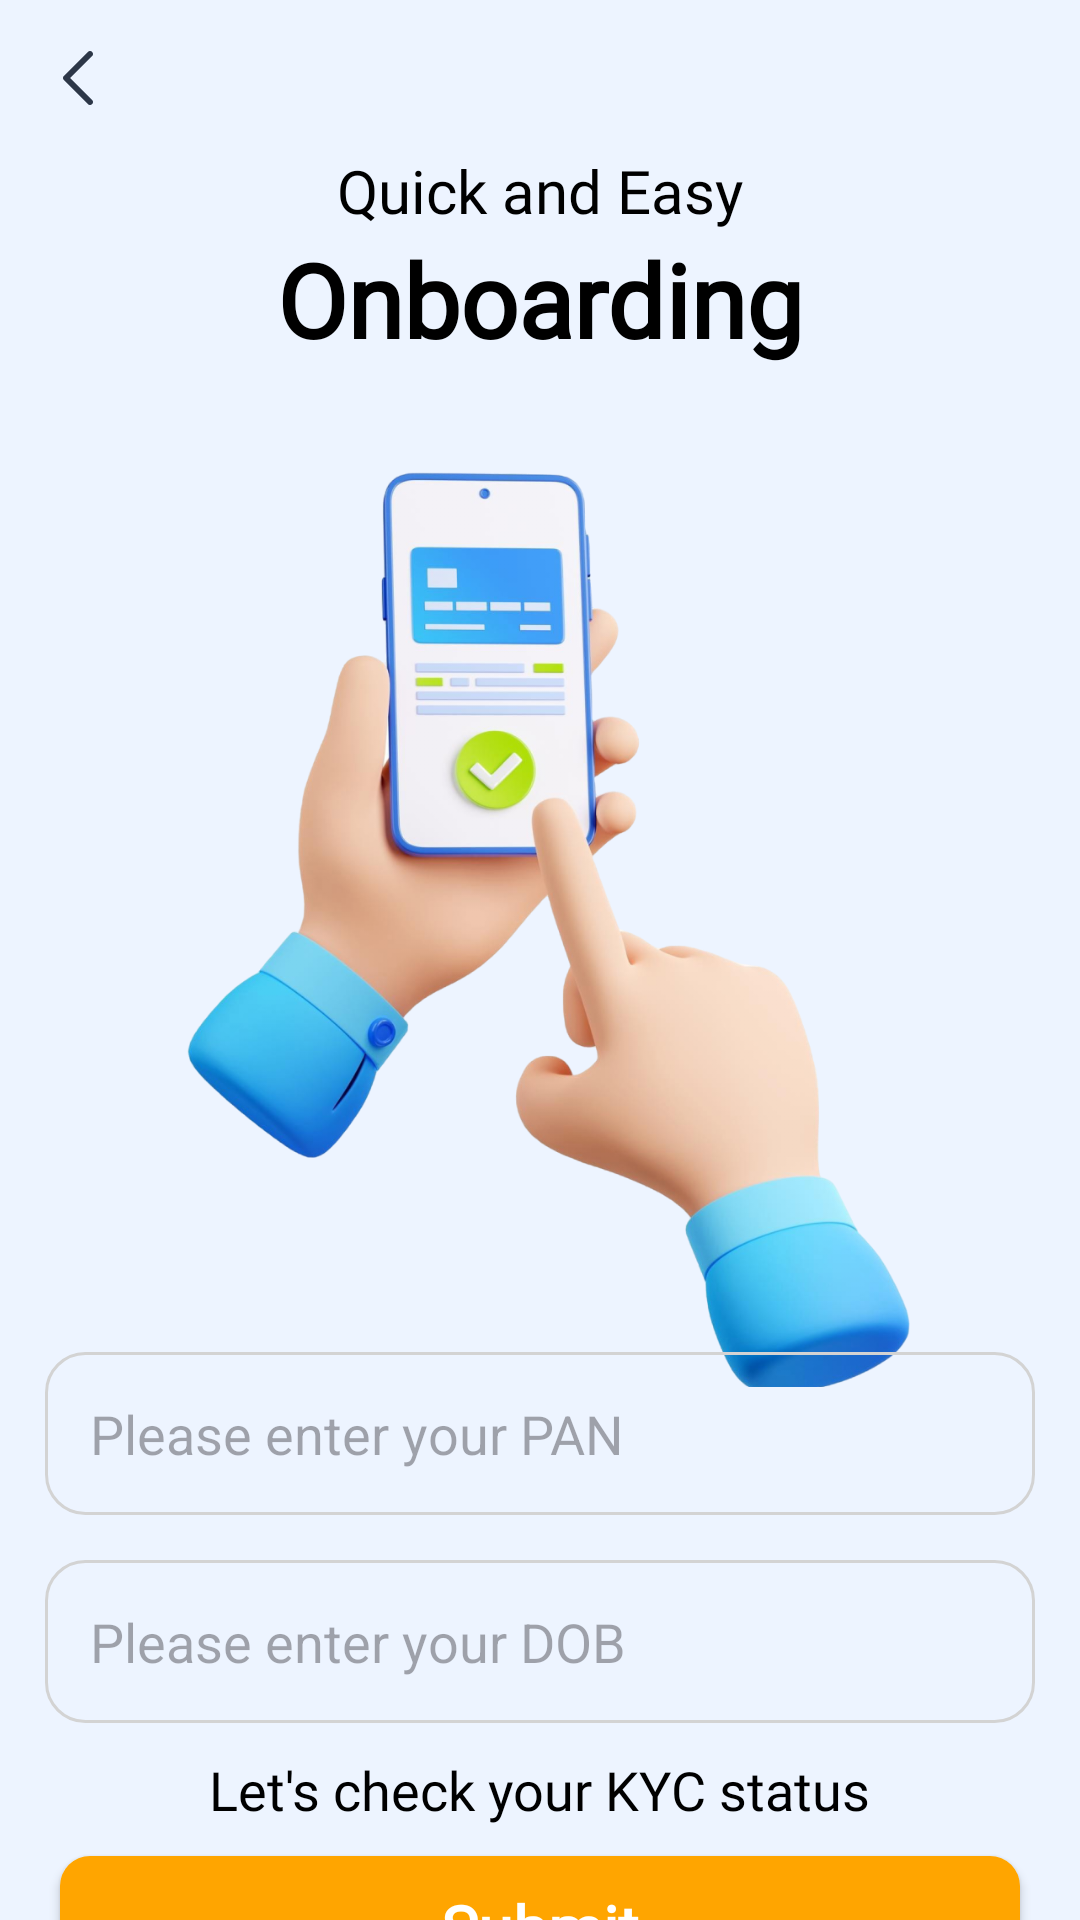

Named icons in this screenshot (1080px×1920px) and their bounding boxes, Rect(x1, y1, x2, y2):
left: Rect(63, 51, 93, 105)
